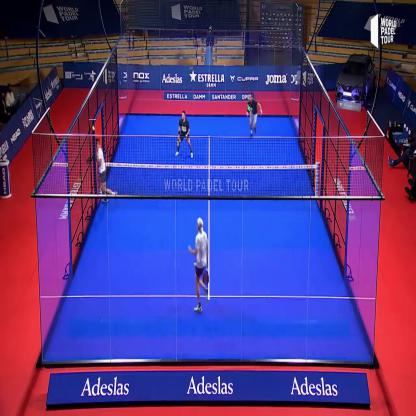ball: (89, 119, 97, 132)
